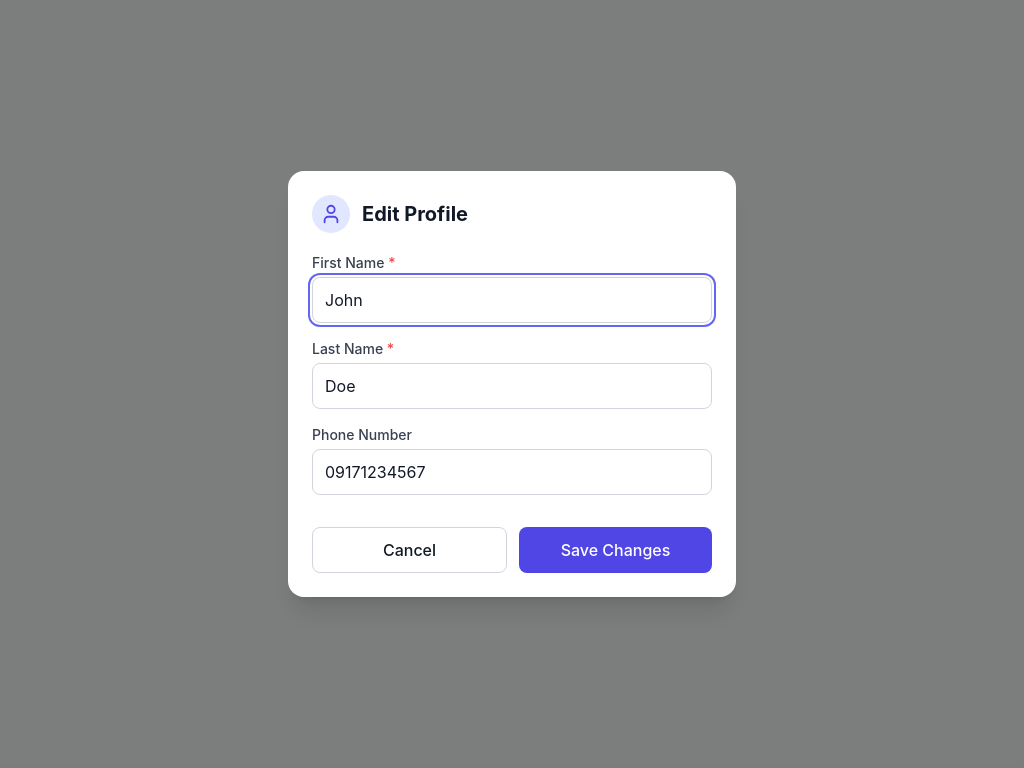
Test case: EditProfileModal › Validation › shows error when first name is empty
The width and height of the screenshot is (1024, 768).
Clear the field showing "John" below "First Name" at (512, 300), box [312, 277, 712, 323]
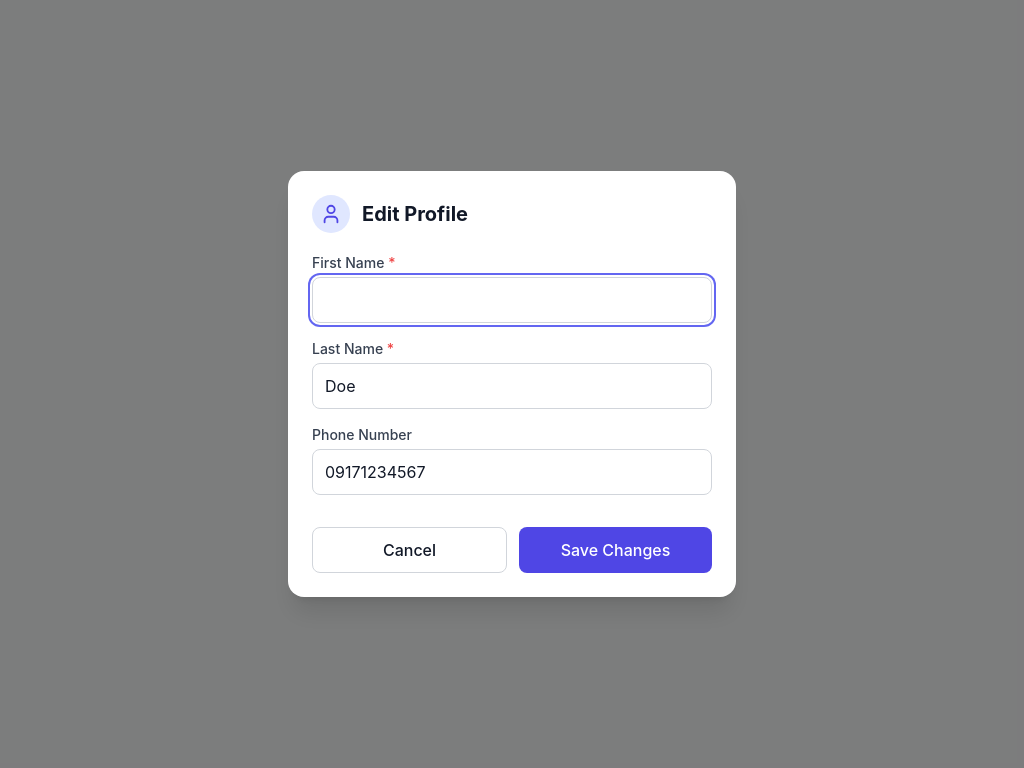
Click the button "Save Changes".
click(616, 550)  # box [519, 527, 712, 573]
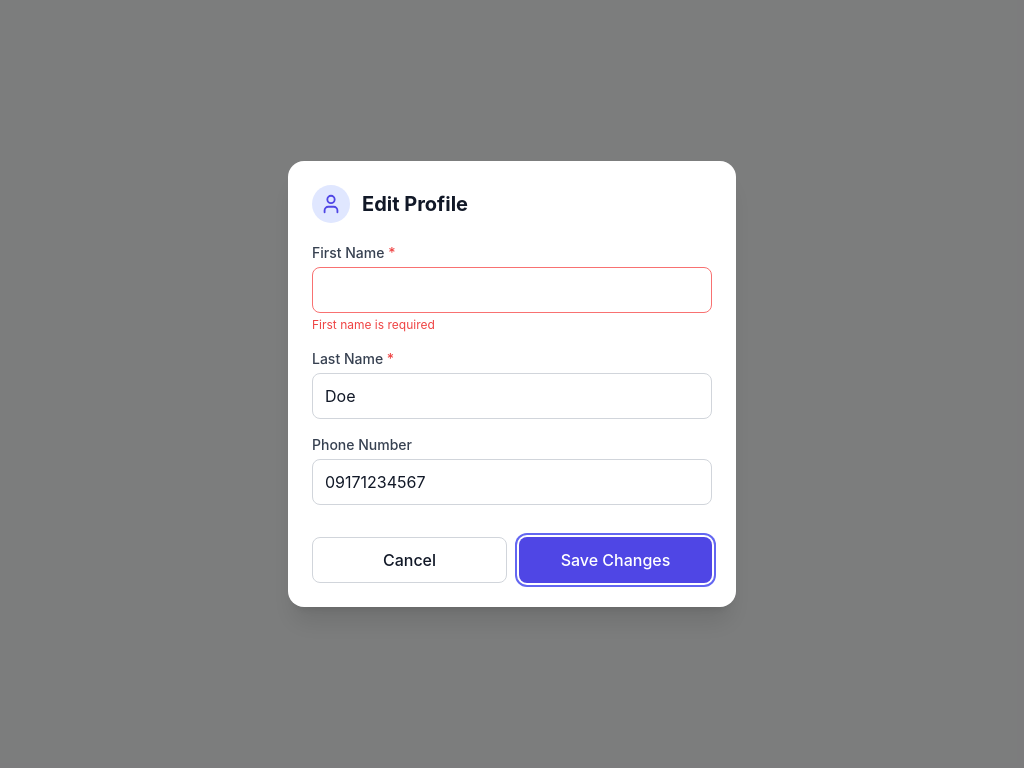
Now the text "First name is required" is shown, box [312, 317, 435, 332]
